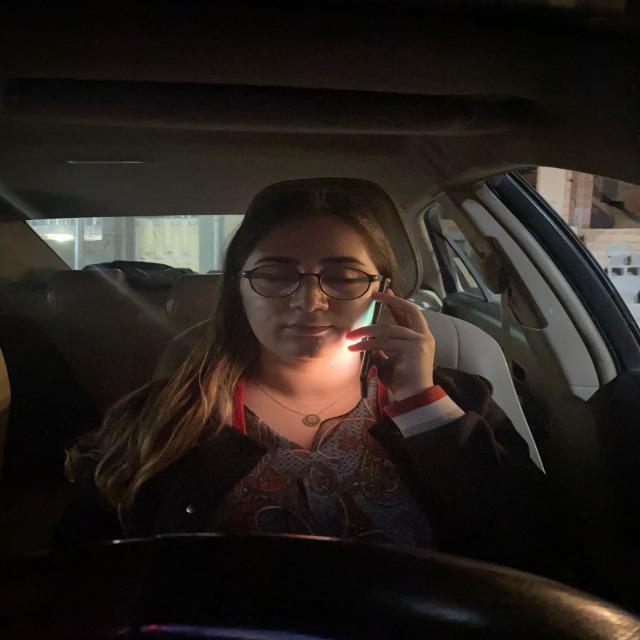mobile: (355, 279, 396, 394)
person: (244, 199, 373, 364)
